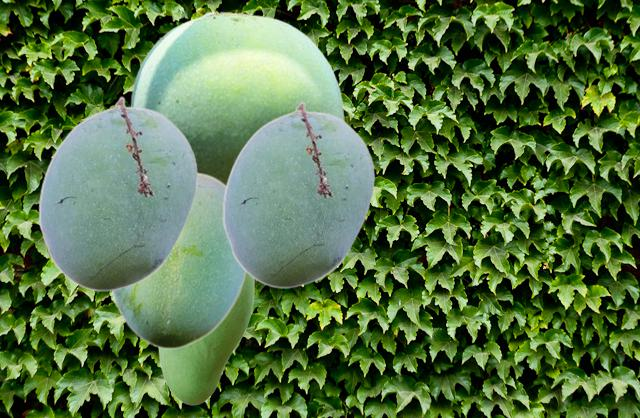green_mango: (130, 10, 343, 182), (38, 96, 197, 290), (222, 101, 374, 287), (109, 171, 247, 348), (158, 275, 253, 404)
